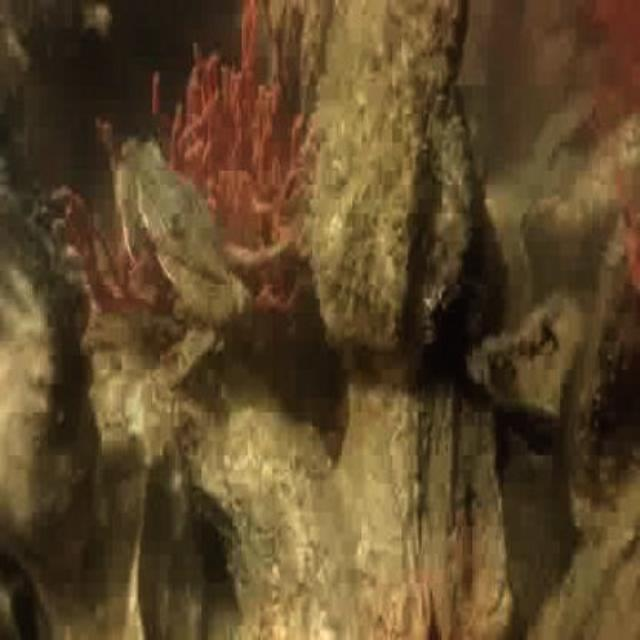Oyster-Closed: (0, 206, 80, 525)
Oyster-Open: (309, 0, 475, 365), (0, 537, 60, 638)
